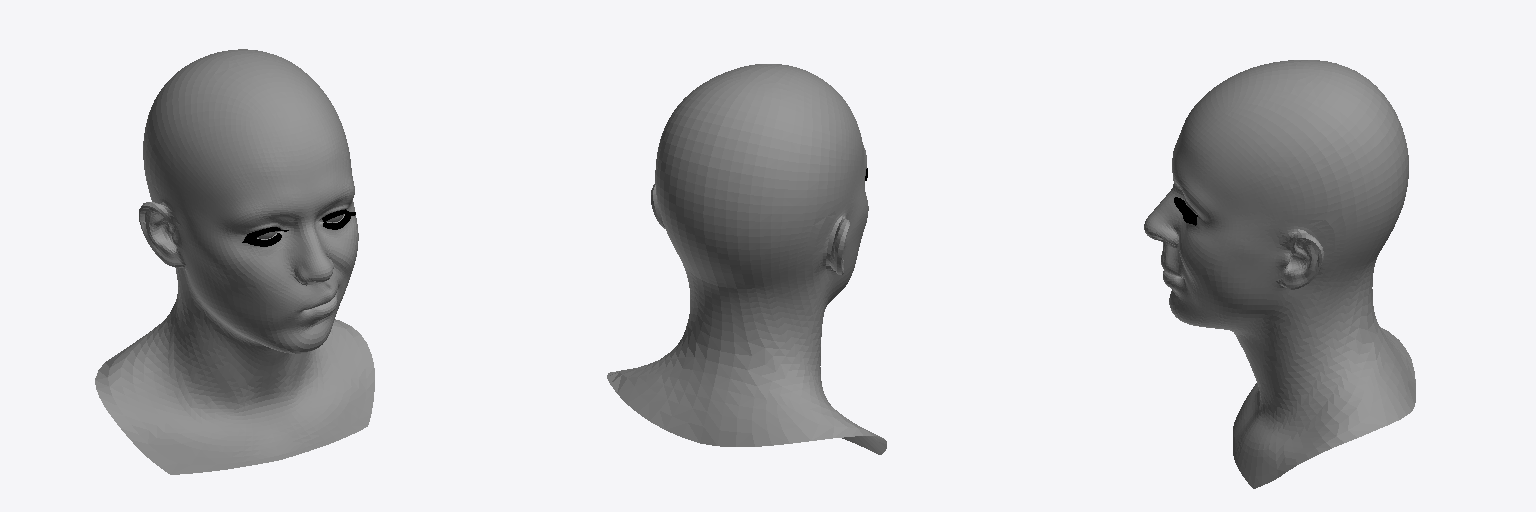
File: mouthLeft.obj
3 views of the same model, side by side, from view 1: azimuth 30°, elevation 25°; view 2: azimuth 150°, elevation 25°; view 3: azimuth 270°, elevation 25° (orthographic).
Size of the model in its own units: 24.83 by 33.82 by 22.29.